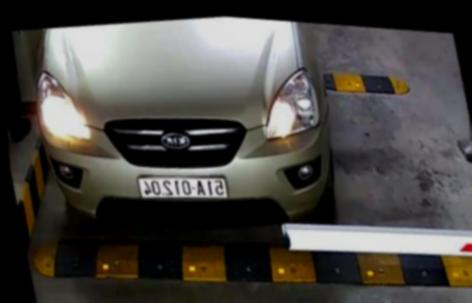License_Plate: (129, 163, 236, 216)
